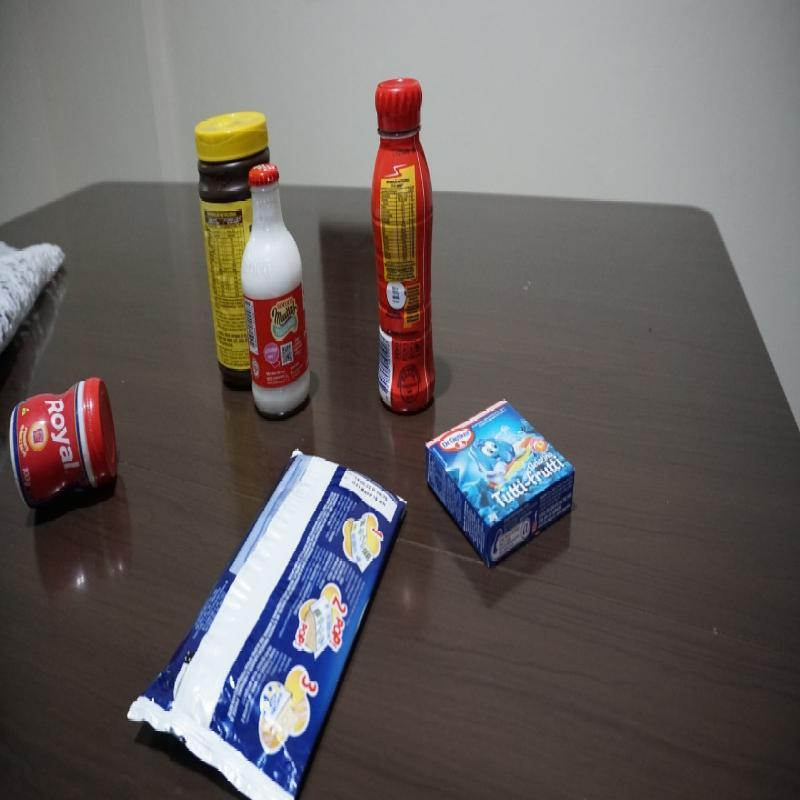Chocolate Milk: (369, 78, 440, 418)
Chocolate Powder: (191, 110, 271, 420)
Coconut Milk: (238, 161, 310, 436)
Gelatine: (423, 395, 579, 570)
Popcorn: (126, 448, 408, 799)
Yeast: (7, 373, 122, 521)
